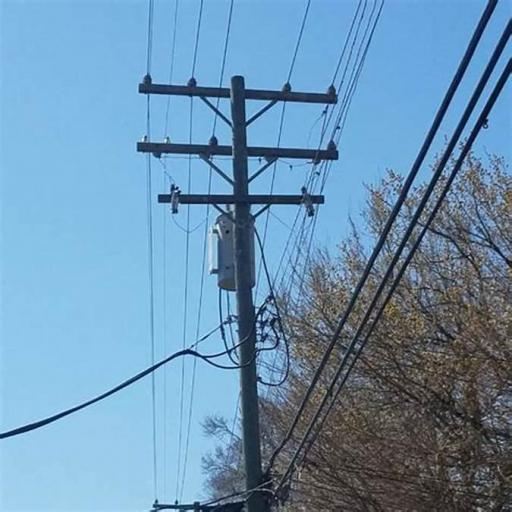mono_9: (132, 73, 340, 511)
